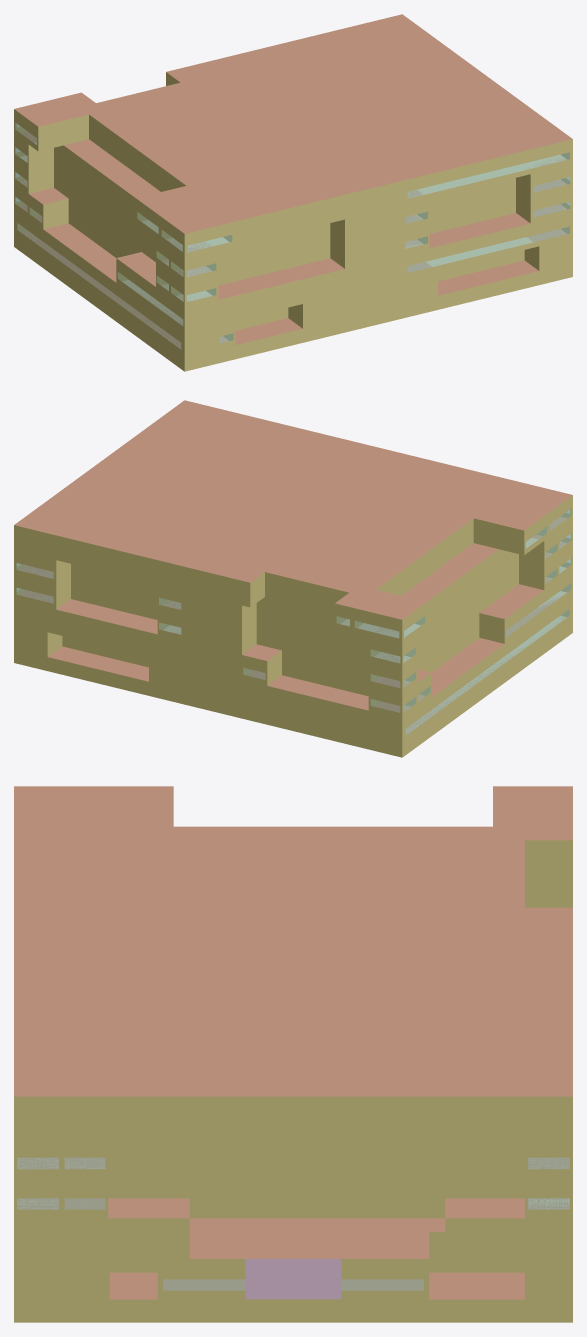
The model's file is Sample_DOE-RefBldgHospitalNew2004_Chicago.gltf.
The picture shows the model from 3 angles, top to bottom: view 1: azimuth 30°, elevation 25°; view 2: azimuth 150°, elevation 25°; view 3: azimuth 270°, elevation 25°; orthographic projection. The views are drawn at different scales.
Visible parts, largest first — view 1: NurseSat_Flr_5_Ceiling, Kitchen_Flr_5_Ceiling, Dining_Flr_5_Ceiling, Corridor_Flr_5_Ceiling, Basement_Wall_South, ICU_Flr_2_Wall_South, Basement_Ceiling, NurseSat_Flr_5_Wall_South, Lobby_Flr_1_Wall_1_West, OR_NurseSat_Flr_2_Wall_South, Dining_Flr_5_Wall_South, Corridor_SE_Flr_3_Wall_2_South (+47 smaller); view 2: NurseSat_Flr_5_Ceiling, Kitchen_Flr_5_Ceiling, Dining_Flr_5_Ceiling, Corridor_Flr_5_Ceiling, Basement_Wall_North, Kitchen_Flr_5_Wall_North, Lobby_Flr_1_Wall_North, Lobby_Flr_1_Ceiling, Lobby_Flr_1_Wall_1_West, Corridor_NW_Flr_3_Wall_2_North, Basement_Wall_West, Corridor_NW_Flr_3_Wall_2_West (+45 smaller); view 3: NurseSat_Flr_5_Ceiling, Kitchen_Flr_5_Ceiling, Dining_Flr_5_Ceiling, Corridor_Flr_5_Ceiling, Corridor_SE_Flr_3_Wall_1_East, Kitchen_Flr_5_Wall_East, Basement_Wall_East, ER_NurseStat_Flr_1_Ceiling, Dining_Flr_5_Wall_East, Corridor_SE_Flr_4_Wall_1_East, OR_NurseSat_Flr_2_Wall_1_East, Basement_Ceiling (+29 smaller).
Part boxes in pixels (x1=…): NurseSat_Flr_5_Ceiling: x1=133, y1=80, x2=403, y2=213; Kitchen_Flr_5_Ceiling: x1=234, y1=14, x2=499, y2=126; Dining_Flr_5_Ceiling: x1=331, y1=85, x2=572, y2=180; Corridor_Flr_5_Ceiling: x1=79, y1=55, x2=268, y2=221; Basement_Wall_South: x1=184, y1=263, x2=572, y2=371; ICU_Flr_2_Wall_South: x1=184, y1=269, x2=344, y2=332; Basement_Ceiling: x1=20, y1=230, x2=538, y2=348; NurseSat_Flr_5_Wall_South: x1=269, y1=180, x2=403, y2=237; Lobby_Flr_1_Wall_1_West: x1=14, y1=208, x2=184, y2=357; OR_NurseSat_Flr_2_Wall_South: x1=404, y1=213, x2=572, y2=279; Dining_Flr_5_Wall_South: x1=404, y1=139, x2=572, y2=204; Corridor_SE_Flr_3_Wall_2_South: x1=218, y1=233, x2=330, y2=285; NurseSat_Flr_5_Ceiling: x1=217, y1=441, x2=487, y2=574; Kitchen_Flr_5_Ceiling: x1=14, y1=454, x2=279, y2=566; Dining_Flr_5_Ceiling: x1=112, y1=400, x2=352, y2=494; Corridor_Flr_5_Ceiling: x1=183, y1=474, x2=521, y2=596; Basement_Wall_North: x1=14, y1=649, x2=402, y2=757; Kitchen_Flr_5_Wall_North: x1=14, y1=525, x2=182, y2=590; Lobby_Flr_1_Wall_North: x1=242, y1=680, x2=402, y2=743; Lobby_Flr_1_Ceiling: x1=248, y1=593, x2=565, y2=712; Lobby_Flr_1_Wall_1_West: x1=402, y1=594, x2=572, y2=743; Corridor_NW_Flr_3_Wall_2_North: x1=256, y1=619, x2=368, y2=671; Basement_Wall_West: x1=402, y1=619, x2=572, y2=757; Corridor_NW_Flr_3_Wall_2_West: x1=417, y1=563, x2=513, y2=658; NurseSat_Flr_5_Ceiling: x1=14, y1=853, x2=461, y2=961; Kitchen_Flr_5_Ceiling: x1=253, y1=961, x2=572, y2=1096; Dining_Flr_5_Ceiling: x1=14, y1=961, x2=253, y2=1096; Corridor_Flr_5_Ceiling: x1=14, y1=826, x2=572, y2=961; Corridor_SE_Flr_3_Wall_1_East: x1=108, y1=1157, x2=461, y2=1198; Kitchen_Flr_5_Wall_East: x1=253, y1=1096, x2=572, y2=1137; Basement_Wall_East: x1=14, y1=1299, x2=572, y2=1322; ER_NurseStat_Flr_1_Ceiling: x1=189, y1=1218, x2=445, y2=1258; Dining_Flr_5_Wall_East: x1=14, y1=1096, x2=253, y2=1137; Corridor_SE_Flr_4_Wall_1_East: x1=108, y1=1137, x2=461, y2=1157; OR_NurseSat_Flr_2_Wall_1_East: x1=14, y1=1218, x2=189, y2=1258; Basement_Ceiling: x1=109, y1=1272, x2=524, y2=1299.
Size of the model in its own units: 79.25 by 23.78 by 53.34.
